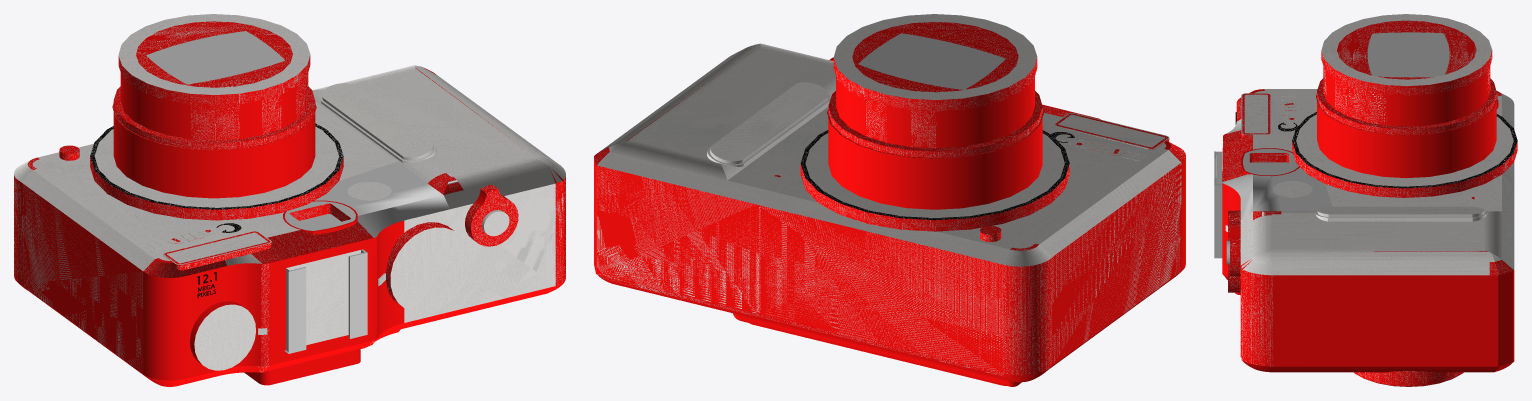
Rendered from model_scale.obj.
The picture shows the model from 3 angles, left to right: view 1: azimuth 30°, elevation 25°; view 2: azimuth 150°, elevation 25°; view 3: azimuth 270°, elevation 25°; orthographic projection. The views are drawn at different scales.
Visible parts, largest first — view 1: mesh58_mesh58-geometry, mesh64_mesh64-geometry, mesh65_mesh65-geometry, mesh63_mesh63-geometry, mesh66_mesh66-geometry, mesh74_mesh74-geometry; view 2: mesh58_mesh58-geometry, mesh73_mesh73-geometry; view 3: mesh58_mesh58-geometry, mesh68_mesh68-geometry, mesh64_mesh64-geometry, mesh66_mesh66-geometry, mesh65_mesh65-geometry.
Boxes of the visible parts, x1,y1,x2,y2 form: mesh58_mesh58-geometry: [14, 14, 565, 386]; mesh64_mesh64-geometry: [284, 249, 367, 353]; mesh65_mesh65-geometry: [386, 222, 469, 312]; mesh63_mesh63-geometry: [190, 301, 255, 370]; mesh66_mesh66-geometry: [465, 185, 518, 246]; mesh74_mesh74-geometry: [244, 349, 360, 385]; mesh58_mesh58-geometry: [594, 14, 1185, 382]; mesh73_mesh73-geometry: [733, 313, 1021, 386]; mesh58_mesh58-geometry: [1222, 14, 1517, 372]; mesh68_mesh68-geometry: [1354, 371, 1463, 386]; mesh64_mesh64-geometry: [1214, 151, 1222, 258]; mesh66_mesh66-geometry: [1226, 221, 1240, 275]; mesh65_mesh65-geometry: [1228, 210, 1240, 292].
Size of the model in its own units: 0.1002 by 0.0579 by 0.0701.
